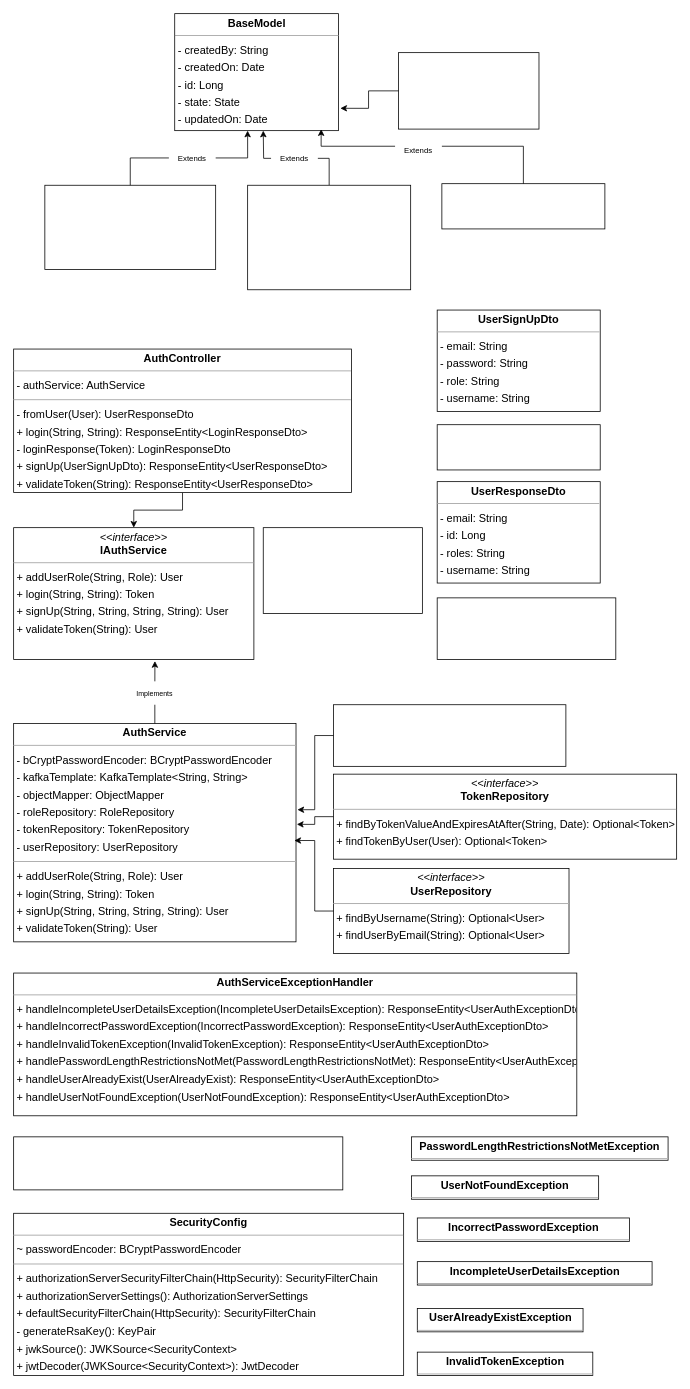
This 690x1389 diagram has some shape labels left out. Each missing label, with the centre of its shape:
"<<enumeration>> State + ACTIVE: + INACTIVE:" goes at [468,90].
"<<interface>> RoleRepository + findByRoleName(String): Optional<Role>" goes at [449,735].
"AuthConfigurations + initializeBCryptPasswordEncoder(): BCryptPasswordEncoder" goes at [178,1163].
"LoginResponseDto - token: String" goes at [518,447].
"Role - roleName: String" goes at [523,206].
"SendEmailEventDto - body: String - subject: String - toEmail: String" goes at [342,570].
"Token - expiresAt: Date - tokenValue: String - user: User" goes at [130,226].
"User - email: String - password: String - roles: List<Role> - username: String" goes at [329,237].
"UserAuthExceptionDto ~ message: String ~ resolution: String" goes at [526,628].
